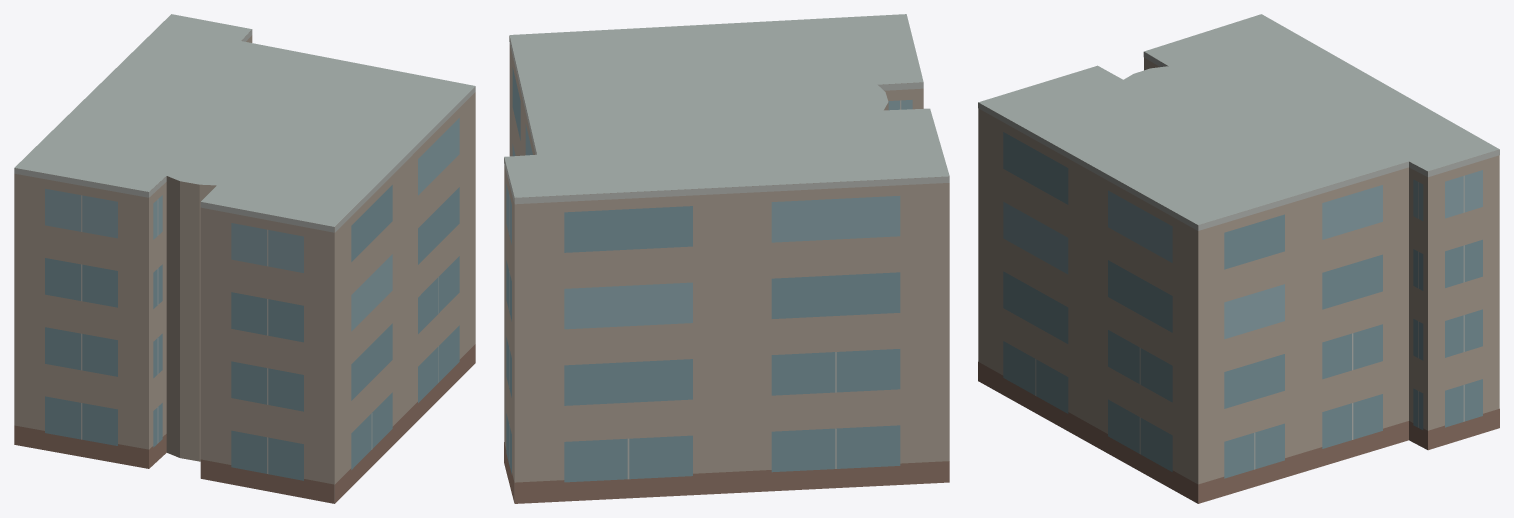
File: survey-upis-32917812.glb
The picture shows the model from 3 angles, left to right: view 1: azimuth 30°, elevation 25°; view 2: azimuth 150°, elevation 25°; view 3: azimuth 270°, elevation 25°; orthographic projection. The views are drawn at different scales.
Parts seen in each view (by area): view 1: survey-upis-32917812.tmp; view 2: survey-upis-32917812.tmp; view 3: survey-upis-32917812.tmp.
Part boxes in pixels (<box>): survey-upis-32917812.tmp: <box>14,14,475,503</box>; survey-upis-32917812.tmp: <box>504,14,949,503</box>; survey-upis-32917812.tmp: <box>978,14,1499,503</box>.
Size of the model in its own units: 18.85 by 11.6 by 19.68.
